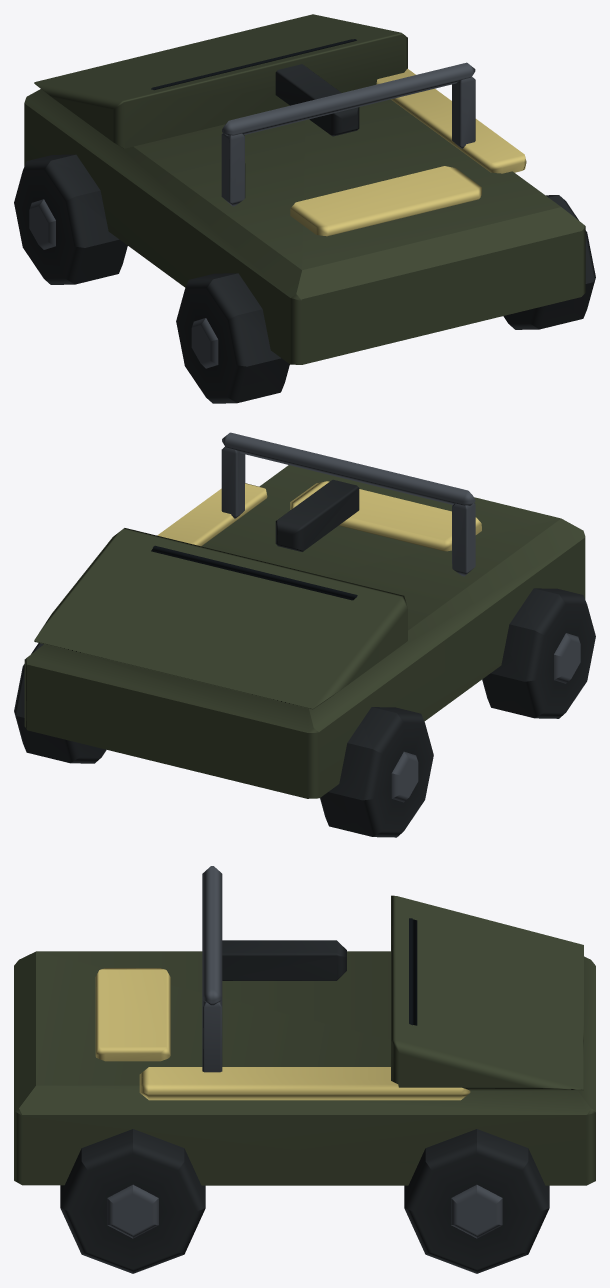
Rendered from scout_vehicle.glb.
The picture shows the model from 3 angles, top to bottom: view 1: azimuth 30°, elevation 25°; view 2: azimuth 150°, elevation 25°; view 3: azimuth 270°, elevation 25°; orthographic projection. The views are drawn at different scales.
Parts seen in each view (by area): view 1: Body; view 2: Body; view 3: Body.
Boxes of the visible parts, x1=… form: Body: x1=14, y1=14, x2=595, y2=403; Body: x1=14, y1=432, x2=595, y2=837; Body: x1=14, y1=866, x2=595, y2=1273.
Bounding box in the file's own units: 2.06 × 1.28 × 2.64.
